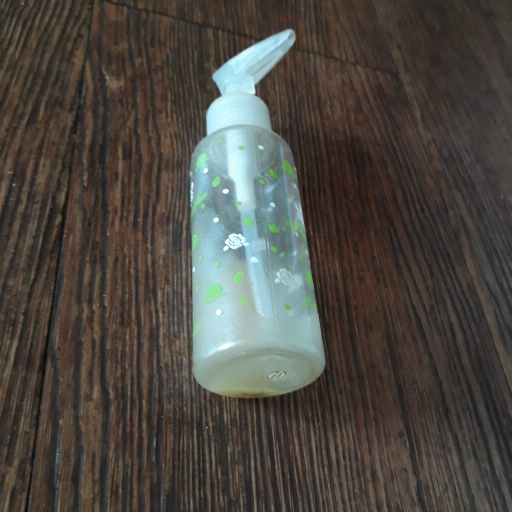Plastic_3: (187, 29, 330, 404)
